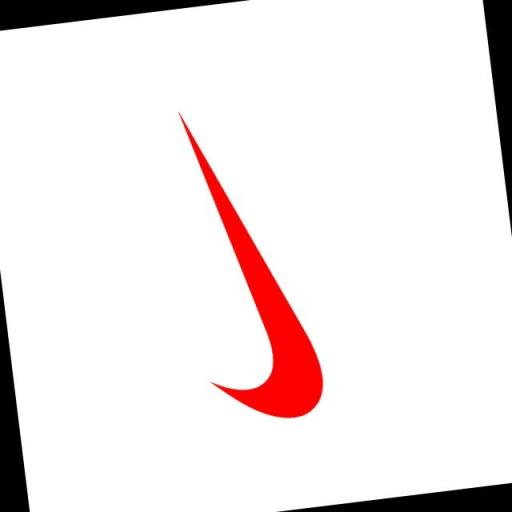Nike: (174, 98, 330, 428)
